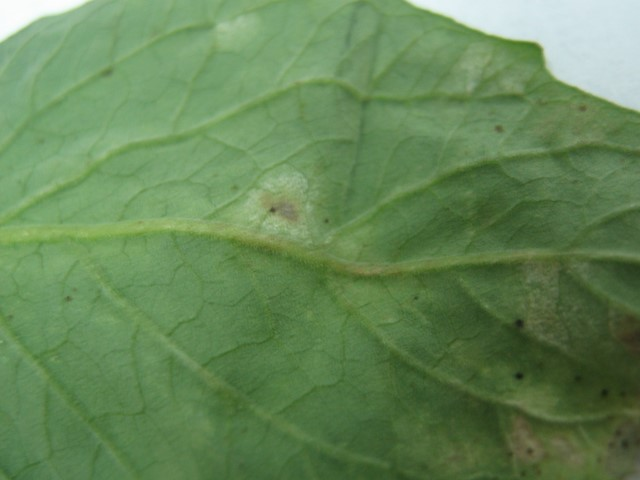cladosporium: (268, 195, 302, 226)
